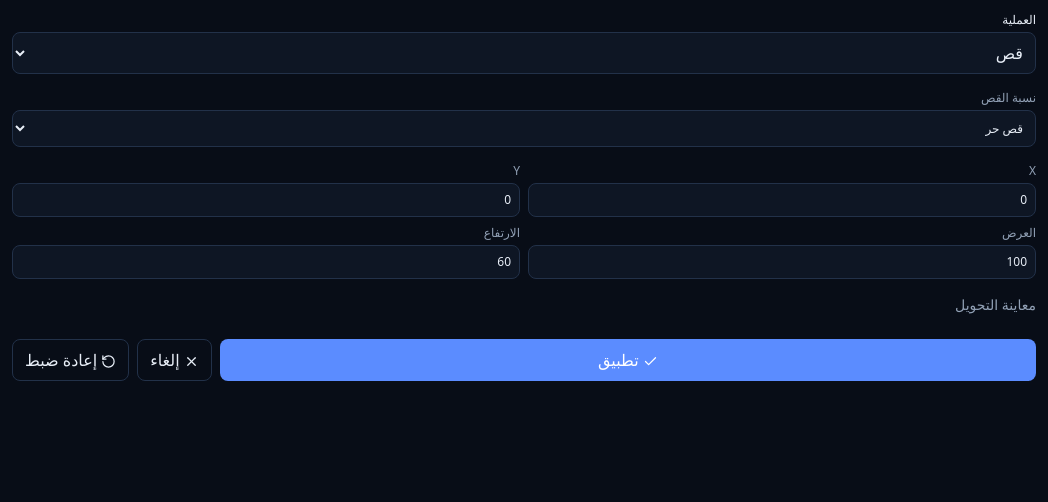
renders required transform controls for resize and perspective
Select "قص" in the dropdown named "العملية". click: (524, 53)
box: [12,32,1036,74]
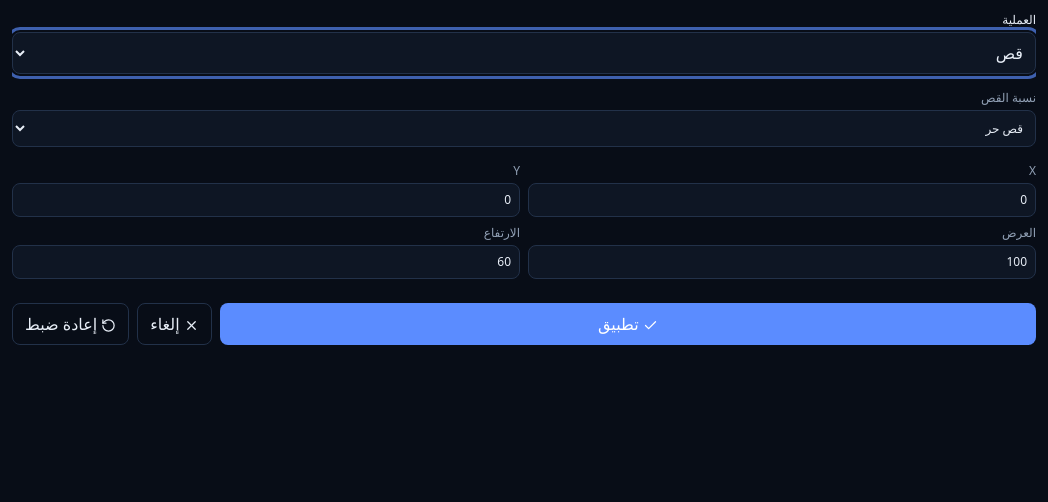
Check: the dropdown labelled "نسبة القص" is shown, box [12,110,1036,147]
Select "تغيير الحجم" in the dropdown named "العملية". click: (524, 53)
box: [12,32,1036,74]
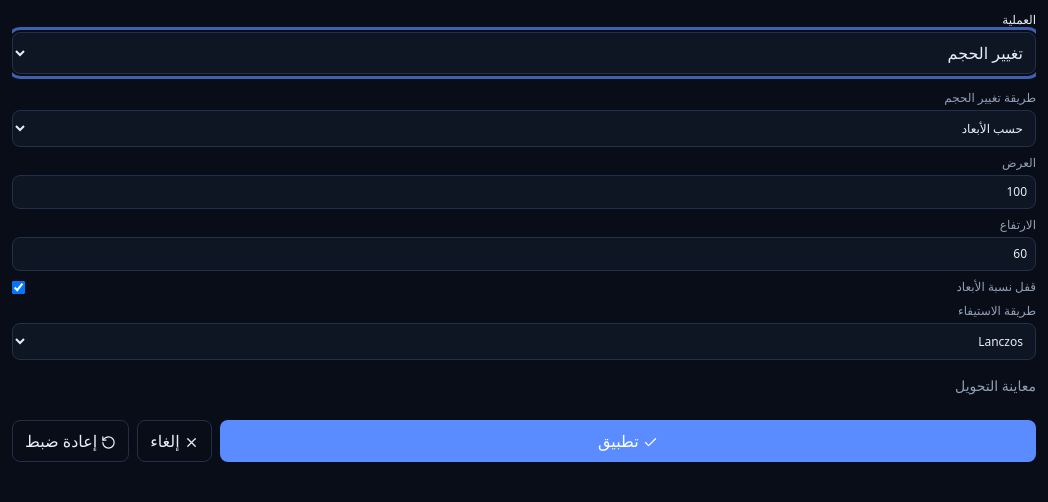
Check: the checkbox labelled "قفل نسبة الأبعاد" is shown, box [12,280,25,294]
Check: the dropdown labelled "طريقة الاستيفاء" is shown, box [12,323,1036,360]
Select "تحويل منظوري" in the dropdown named "العملية". click: (524, 53)
box: [12,32,1036,74]
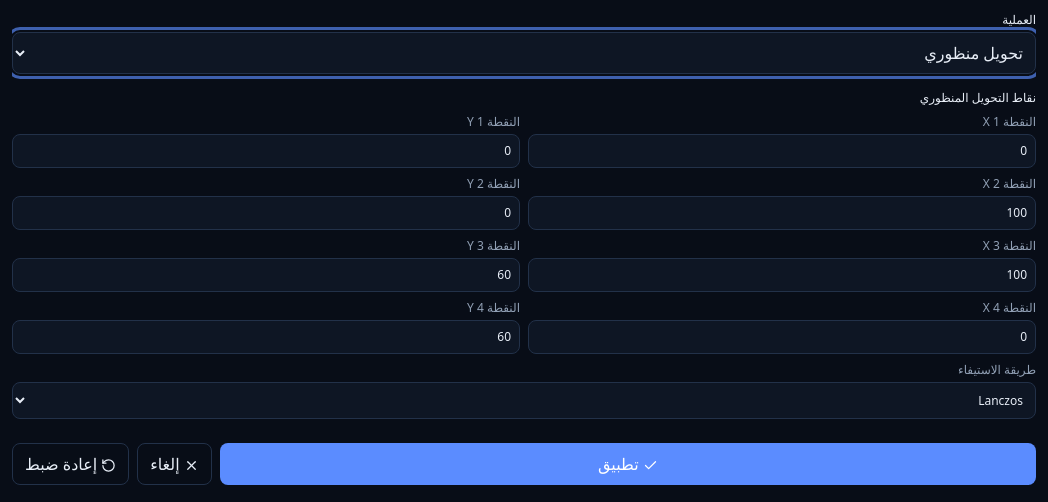
Check: the number field labelled "النقطة 1 X" is shown, box [528,134,1036,168]
Check: the number field labelled "النقطة 4 Y" is shown, box [12,320,520,354]
